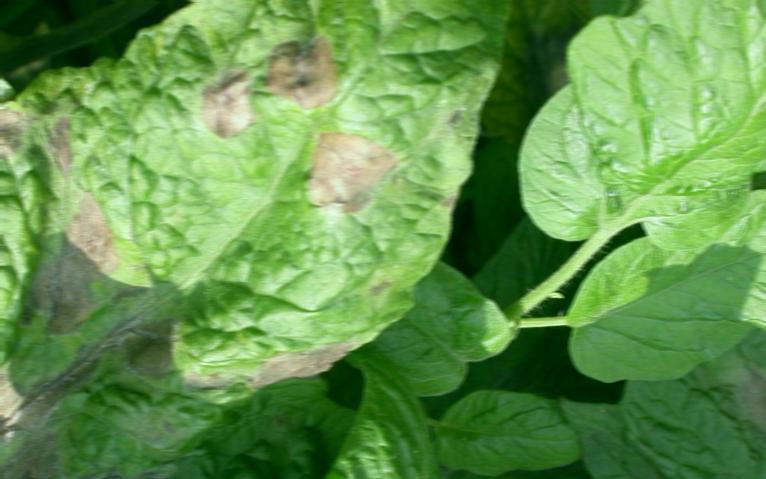Tomato leaf late blight: (0, 0, 504, 479), (578, 320, 766, 479)
